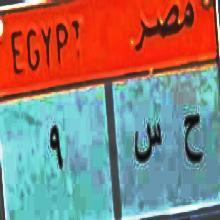7aa: (180, 102, 207, 177)
9: (43, 121, 71, 180)
seen: (132, 109, 164, 180)
